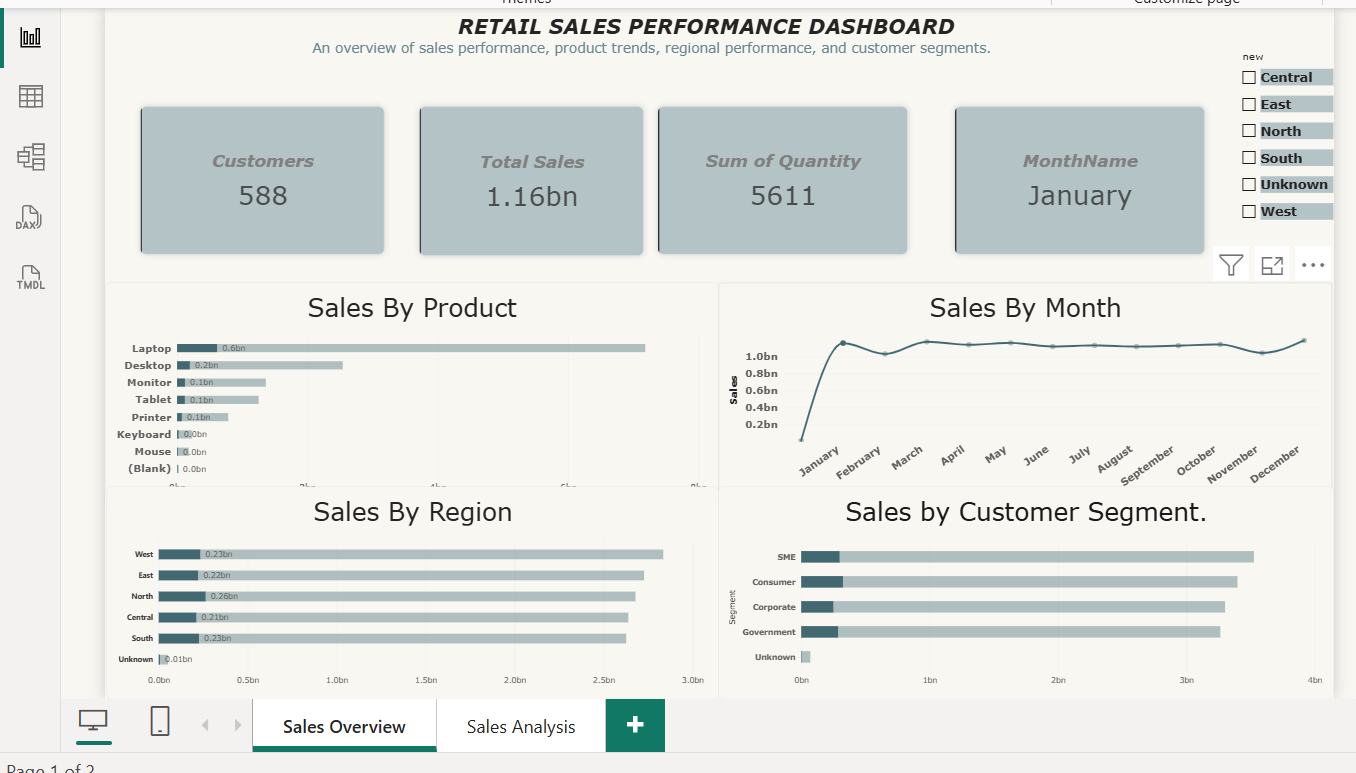

The dashboard page shown, as its layout file describes it:
{"tool":"powerbi","page":{"name":"Sales Overview","canvas":[1920,1080],"ordinal":0},"visuals":[{"type":"cardVisual","fields":{"Data":["Sum(retail_sales_raw. Sales )"]},"box":[480.6,143,372.8,255.5],"z":0},{"type":"cardVisual","fields":{"Data":["Sum(retail_sales_raw.Quantity)"]},"box":[853.4,143,412.6,253.2],"z":1000},{"type":"cardVisual","fields":{"Data":["Count(retail_sales_raw.CustomerID)"]},"box":[44.5,143,403.3,253.2],"z":2000},{"type":"lineChart","title":"  Sales By Month","fields":{"Category":["retail_sales_raw.MonthName"],"Y":["Sum(retail_sales_raw. Sales )"]},"box":[958.9,429,958.9,351.7],"z":3000},{"type":"clusteredBarChart","title":"Sales By Product","fields":{"Category":["retail_sales_raw.Product"],"Y":["Sum(retail_sales_raw. Sales )"]},"box":[0,429,958.9,351.7],"z":4000},{"type":"clusteredBarChart","title":"Sales By Region","fields":{"Category":["retail_sales_raw.new"],"Y":["Sum(retail_sales_raw. Sales )"]},"box":[2.3,747.9,956.5,332.9],"z":5000},{"type":"clusteredBarChart","title":"Sales by Customer Segment.","fields":{"Category":["retail_sales_raw.Segment"],"Y":["Sum(retail_sales_raw. Sales )"]},"box":[958.9,747.9,961.2,332.9],"z":6000},{"type":"slicer","fields":{"Values":["retail_sales_raw.new"]},"box":[1770.1,65.6,150,330.6],"z":7000},{"type":"cardVisual","fields":{"Data":["Min(retail_sales_raw.MonthName)"]},"box":[1317.6,143,412.6,253.2],"z":8000},{"type":"textbox","box":[0,0,1753.7,65.6],"z":9000},{"type":"textbox","box":[61,49.2,1587.2,93.8],"z":9001}]}

Visuals, with their boxes on the page's 1920x1080 design canvas (x1, y1, x2, y2). These are canvas units, not pixel positions in the 1356x773 screenshot, which may show the page scaled, cropped or inside an application window:
cardVisual - Sum(retail_sales_raw. Sales ): (481,143,853,398)
cardVisual - Sum(retail_sales_raw.Quantity): (853,143,1266,396)
cardVisual - Count(retail_sales_raw.CustomerID): (44,143,448,396)
"  Sales By Month" lineChart: (959,429,1918,781)
"Sales By Product" clusteredBarChart: (0,429,959,781)
"Sales By Region" clusteredBarChart: (2,748,959,1081)
"Sales by Customer Segment." clusteredBarChart: (959,748,1920,1081)
slicer - retail_sales_raw.new: (1770,66,1920,396)
cardVisual - Min(retail_sales_raw.MonthName): (1318,143,1730,396)
textbox: (0,0,1754,66)
textbox: (61,49,1648,143)
